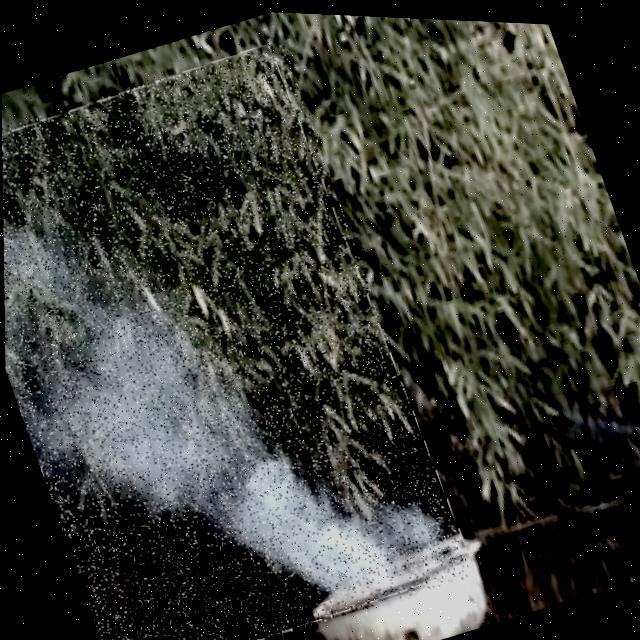Smoke: (0, 29, 469, 640)
